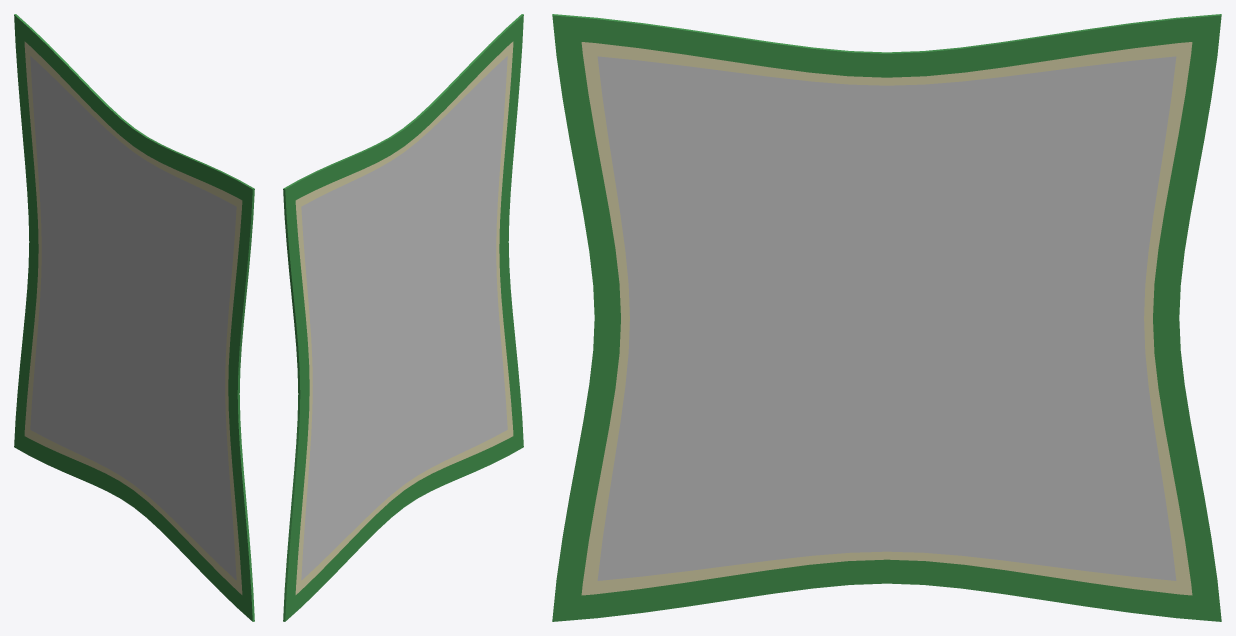
File: Poster.fbx
The picture shows the model from 3 angles, left to right: view 1: azimuth 30°, elevation 25°; view 2: azimuth 150°, elevation 25°; view 3: azimuth 270°, elevation 25°; orthographic projection. The views are drawn at different scales.
Parts seen in each view (by area): view 1: Plane; view 2: Plane; view 3: Plane.
Boxes of the visible parts, x1,y1,x2,y2 form: Plane: (14, 14, 254, 621); Plane: (283, 14, 523, 621); Plane: (552, 14, 1221, 621).
Bounding box in the file's own units: 3.66 × 729 × 729.
